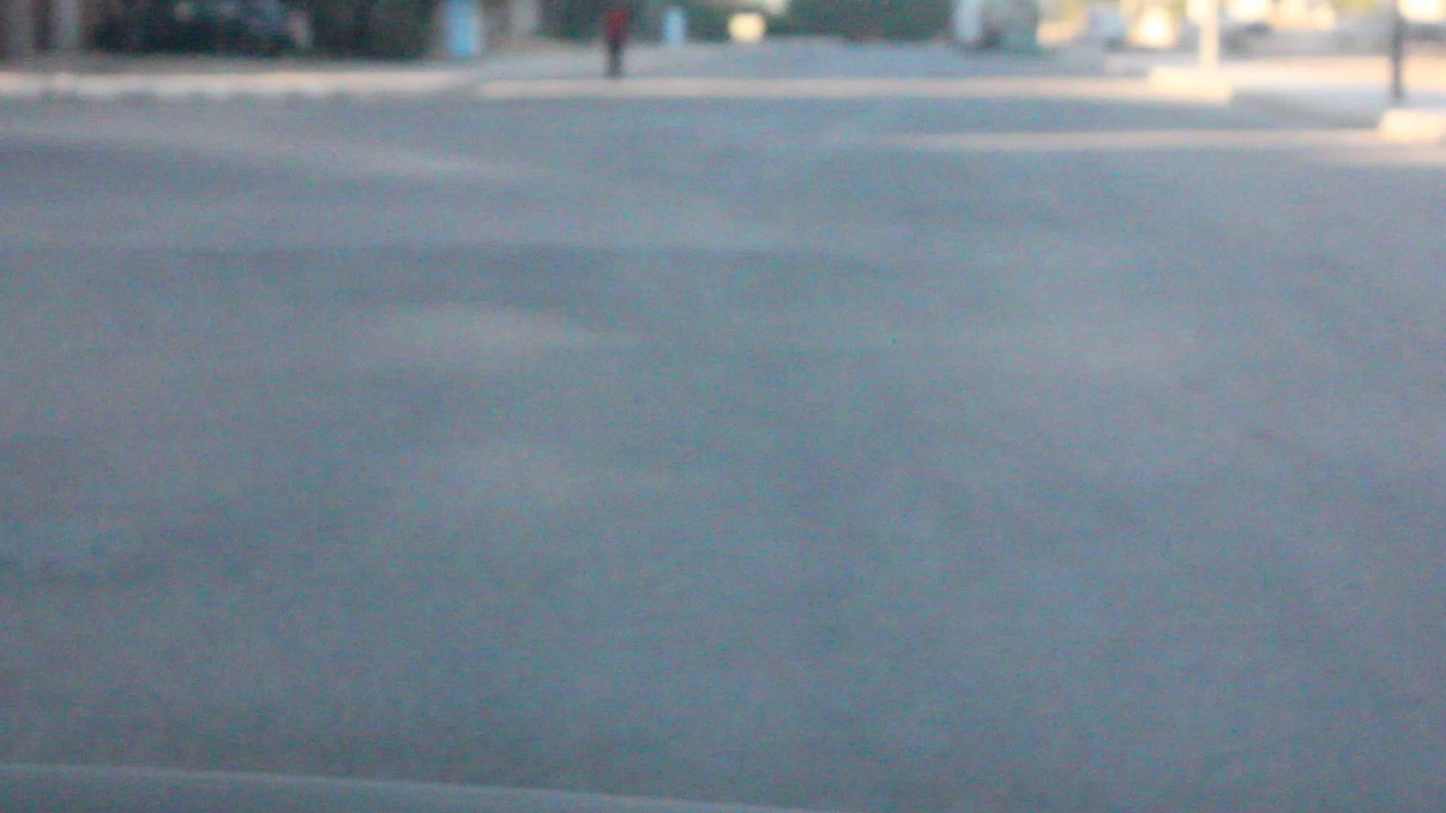Bump: (0, 247, 1446, 425)
